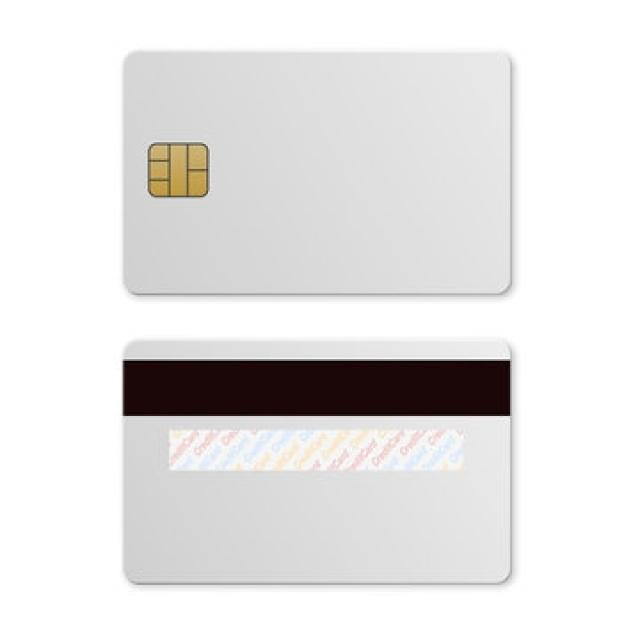payment_card: (121, 48, 513, 296), (121, 339, 512, 586)
